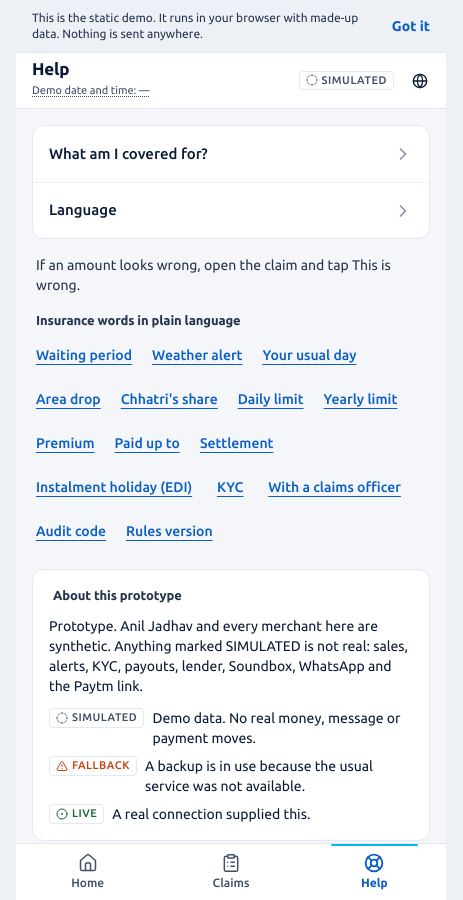
Help › goes to the language screen
Click the link with test id "help-language" at (83, 210), box [33, 182, 429, 238]
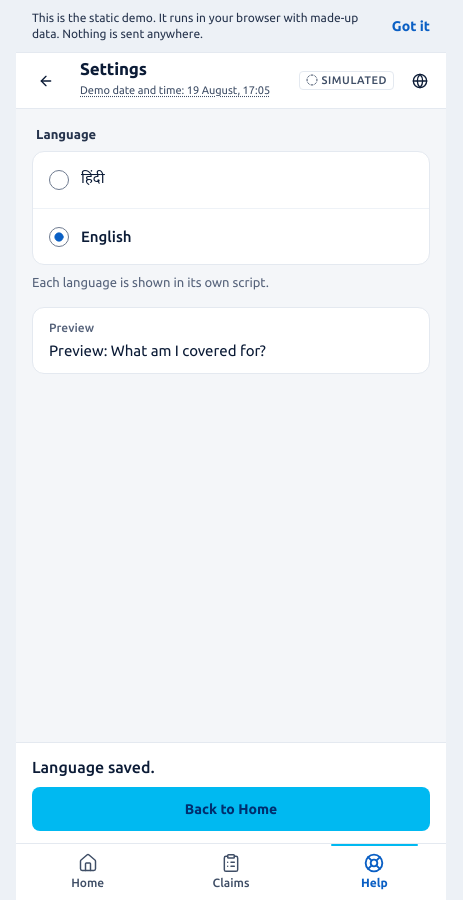
Expected: the element with test id "screen-settings" is shown, [16, 109, 446, 390]
